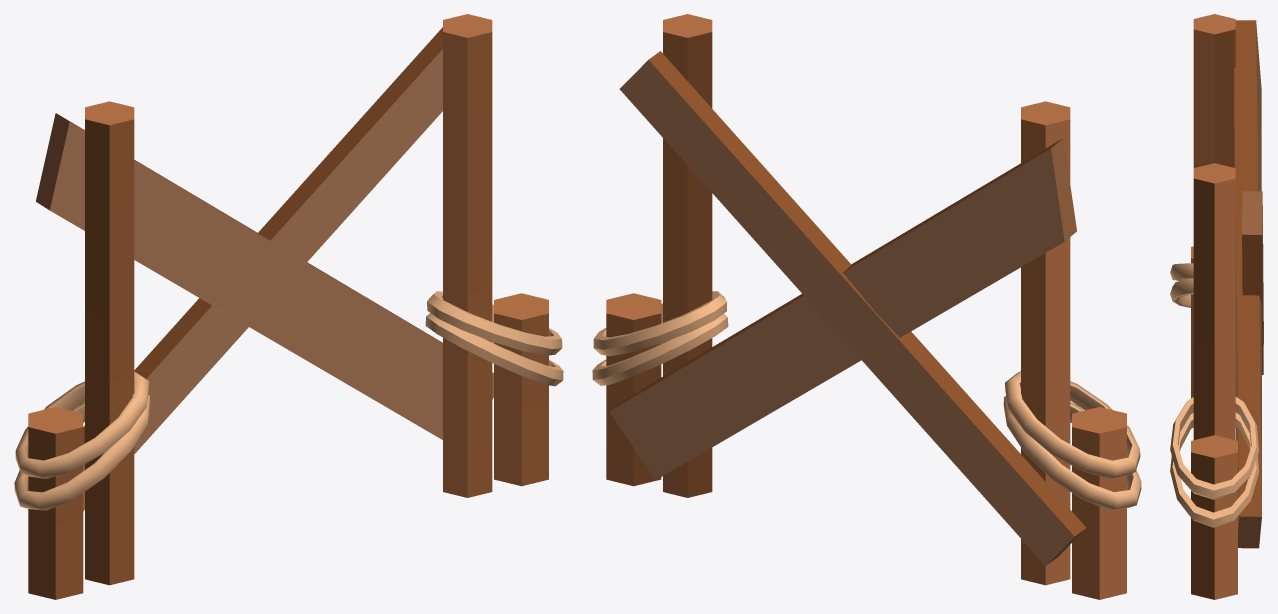
File: rao.fbx
3 renders of one model, left to right at view 1: azimuth 30°, elevation 25°; view 2: azimuth 150°, elevation 25°; view 3: azimuth 270°, elevation 25°, orthographic. The views are drawn at different scales.
Visible parts, largest first — view 1: rao; view 2: rao; view 3: rao.
Part boxes in pixels (left/top/right/bottom): rao: left=14, top=14, right=563, bottom=599; rao: left=592, top=14, right=1141, bottom=599; rao: left=1170, top=14, right=1263, bottom=599.
Bounding box in the file's own units: 327 × 266 × 57.67.
